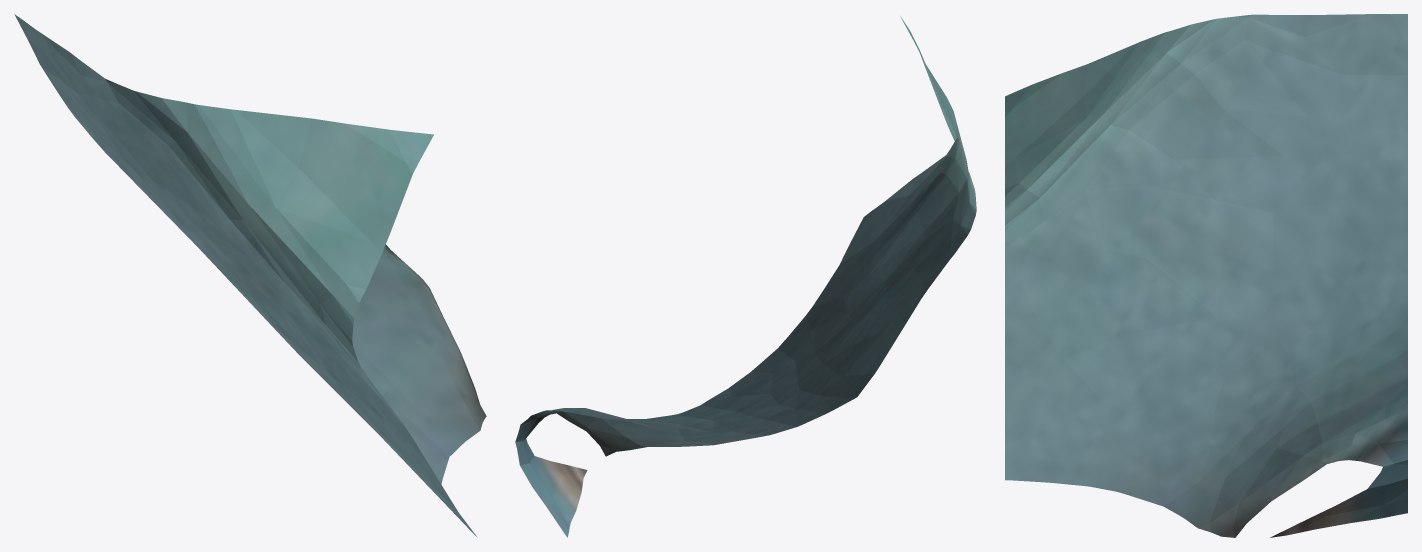
The picture shows the model from 3 angles, left to right: view 1: azimuth 30°, elevation 25°; view 2: azimuth 150°, elevation 25°; view 3: azimuth 270°, elevation 25°; orthographic projection. The views are drawn at different scales.
Bounding box in the file's own units: 40.04 × 42.87 × 42.87.
Materials: 1 (1 with a texture image).
